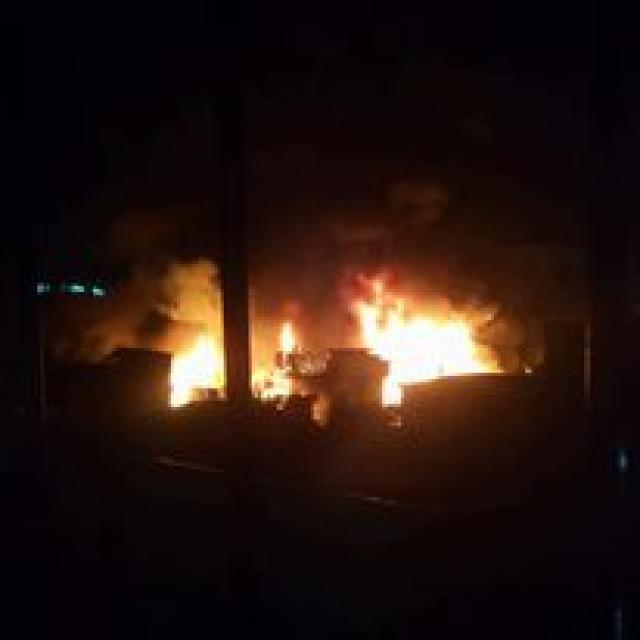Fire: (348, 269, 501, 404), (162, 333, 225, 407), (256, 324, 306, 400)
Smoke: (55, 237, 219, 356)
